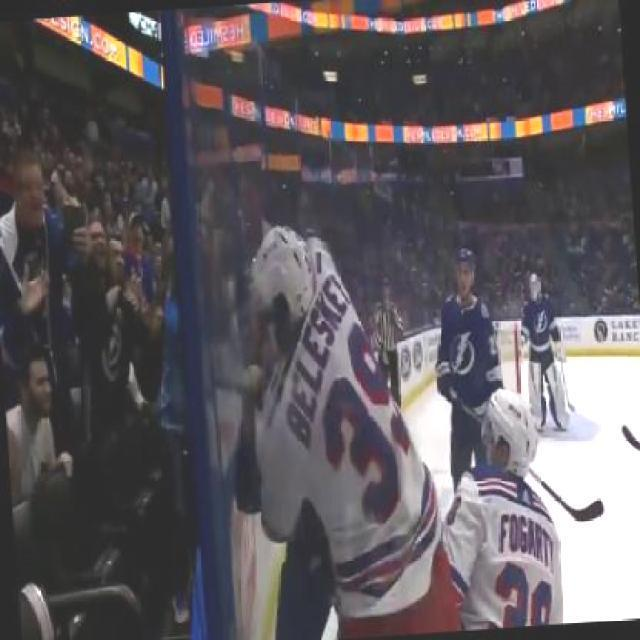fight: (216, 216, 457, 638)
non-fight: (0, 148, 105, 404), (424, 241, 512, 476), (512, 260, 576, 437)
